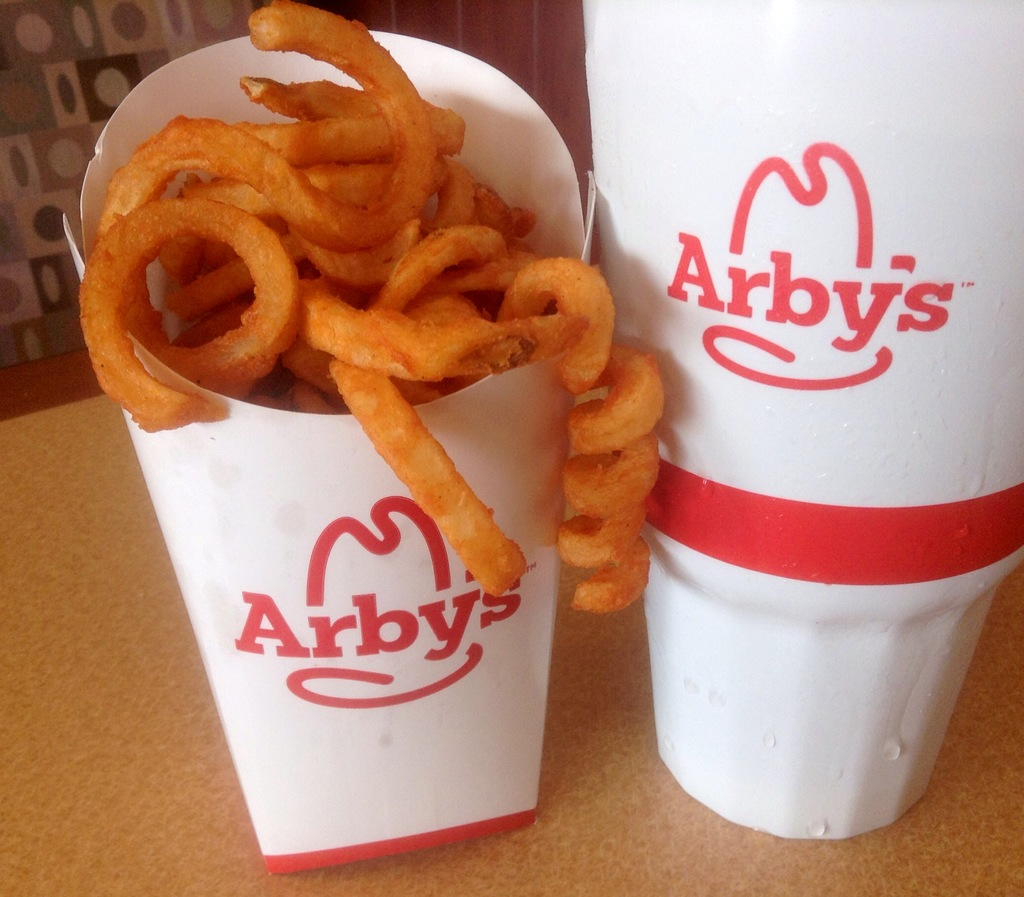French fries: (65, 0, 666, 613)
